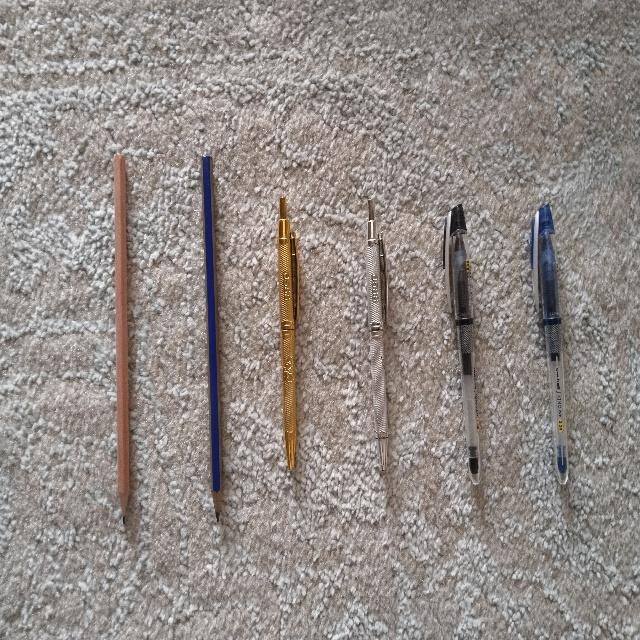pen: (530, 204, 567, 483), (443, 204, 479, 484)
pencil: (202, 155, 221, 520), (114, 154, 129, 522)
signature pen: (277, 197, 299, 469), (366, 200, 387, 470)
